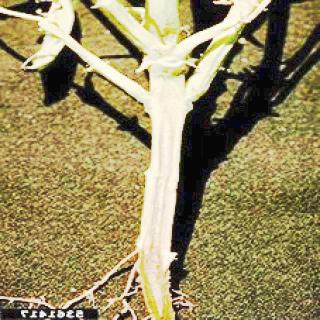wilt: (125, 213, 171, 313)
